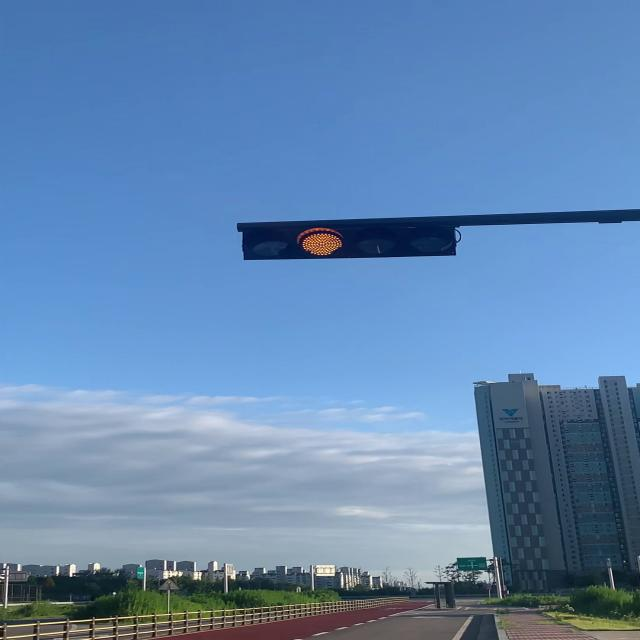yellow_light: (243, 219, 460, 258)
